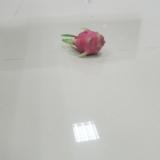pitaya: (62, 28, 106, 56)
